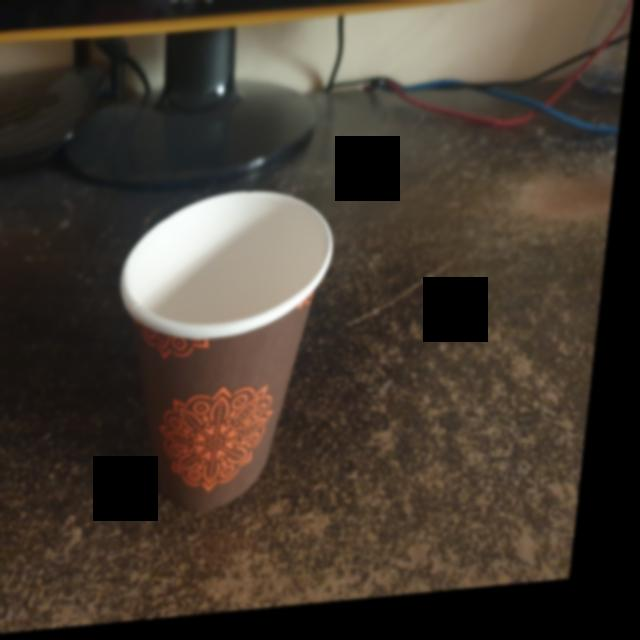cups: (101, 177, 351, 533)
